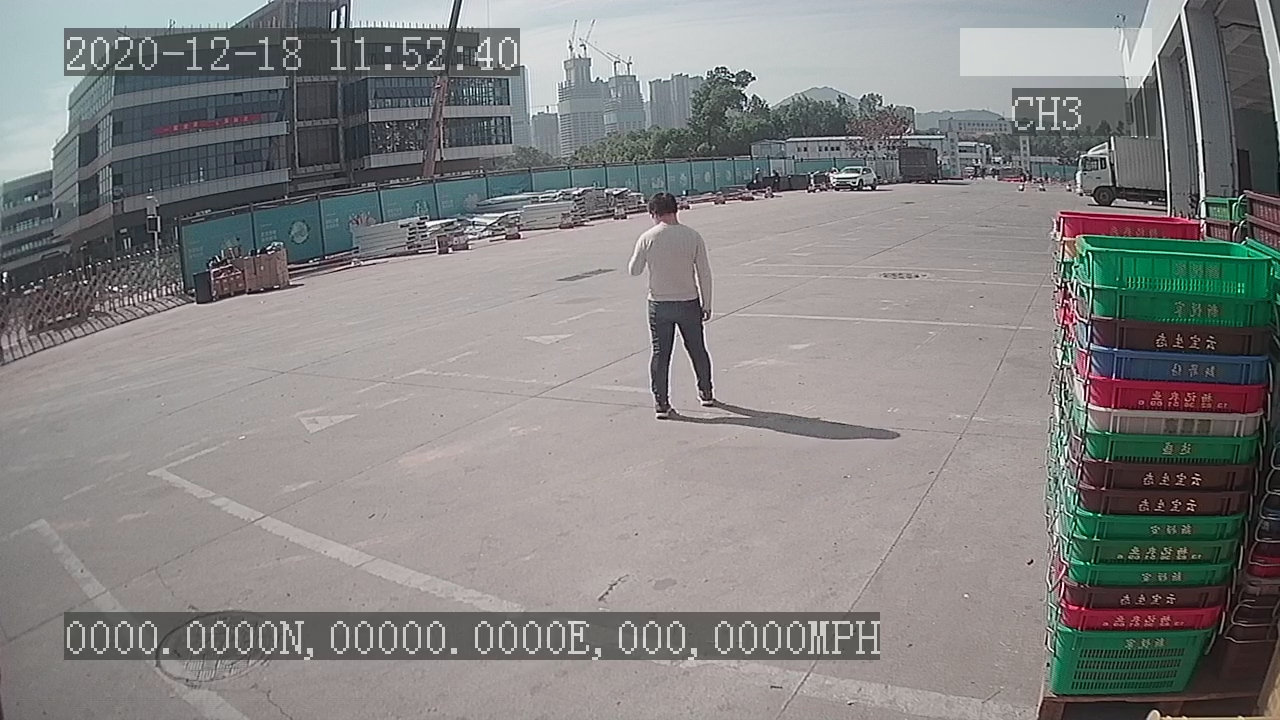person: (626, 185, 727, 426)
